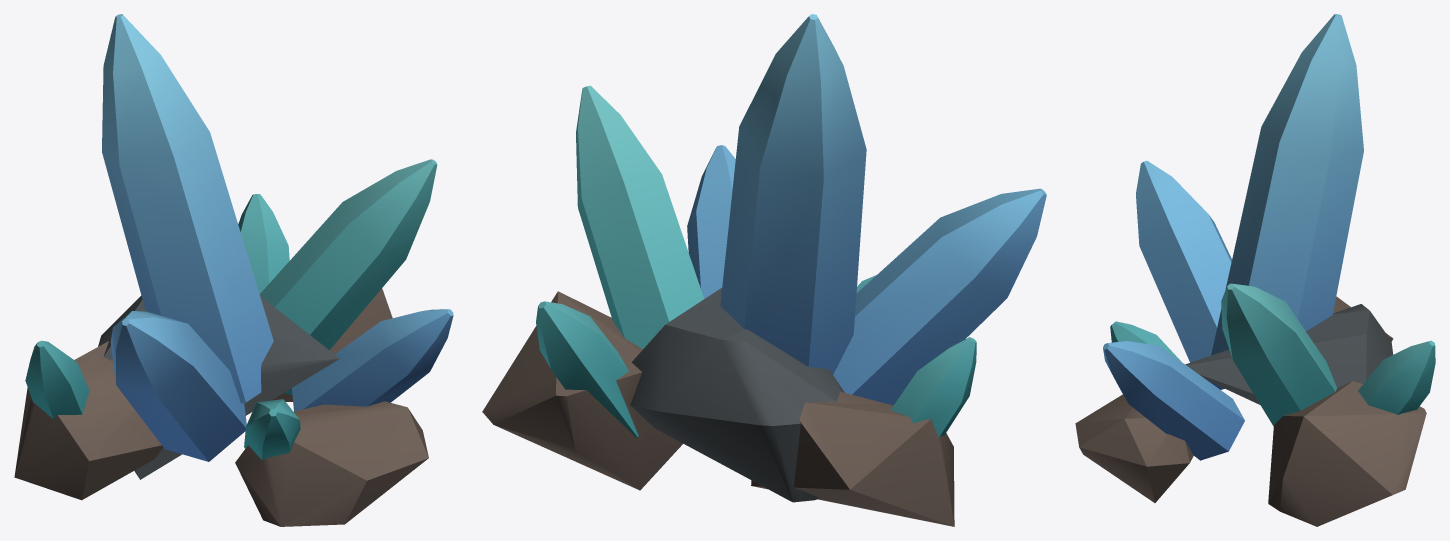
File: ore_pile_crystal.glb
The picture shows the model from 3 angles, left to right: view 1: azimuth 30°, elevation 25°; view 2: azimuth 150°, elevation 25°; view 3: azimuth 270°, elevation 25°; orthographic projection. The views are drawn at different scales.
Parts seen in each view (by area): view 1: ore_pile_crystal; view 2: ore_pile_crystal; view 3: ore_pile_crystal.
Part boxes in pixels (box(x1,y1,x2,y2)): ore_pile_crystal: box(14, 14, 453, 526); ore_pile_crystal: box(482, 14, 1046, 526); ore_pile_crystal: box(1075, 14, 1435, 526).
Bounding box in the file's own units: 2.08 × 2.31 × 1.85.
1 material, 1 textured.
